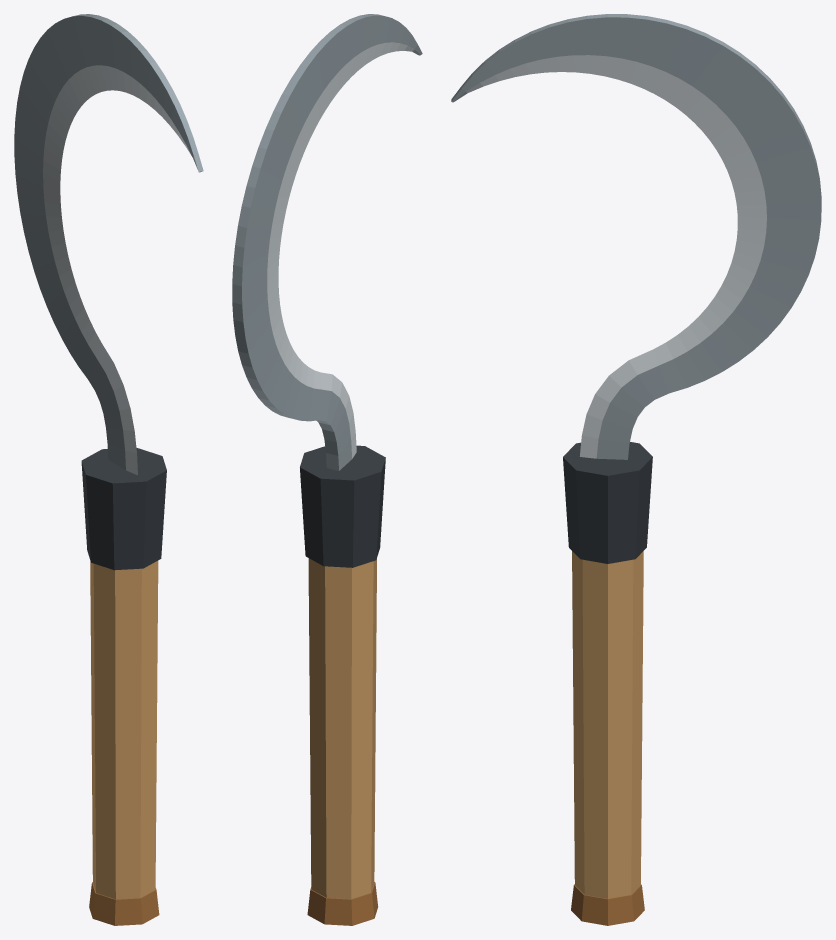
The model's file is Sickle_Round.fbx.
3 views of the same model, side by side, from view 1: azimuth 30°, elevation 25°; view 2: azimuth 150°, elevation 25°; view 3: azimuth 270°, elevation 25° (orthographic).
Parts seen in each view (by area): view 1: Tool_Sickle; view 2: Tool_Sickle; view 3: Tool_Sickle.
Part boxes in pixels (<box>): Tool_Sickle: <box>14,14,203,925</box>; Tool_Sickle: <box>232,14,422,925</box>; Tool_Sickle: <box>451,14,821,925</box>.
Size of the model in its own units: 0.045 by 0.4933 by 0.185.
